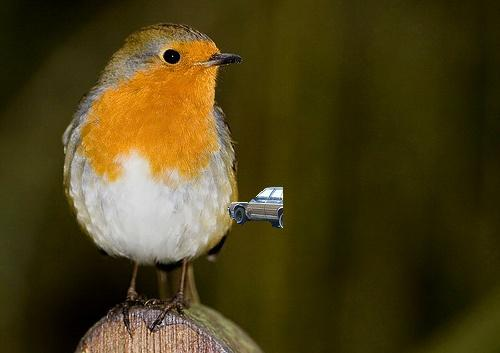tampered: (228, 188, 283, 228)
